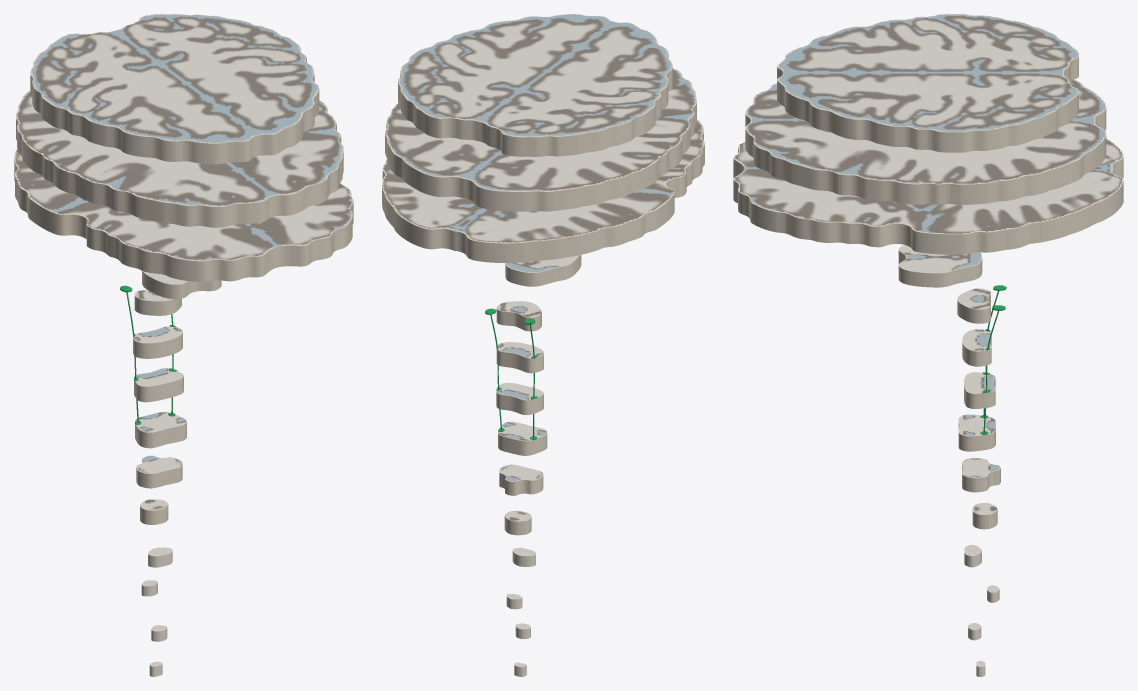
3 renders of one model, left to right at view 1: azimuth 30°, elevation 25°; view 2: azimuth 150°, elevation 25°; view 3: azimuth 270°, elevation 25°, orthographic. The views are drawn at different scales.
Parts seen in each view (by area): view 1: L15·切面（灰白质）, L14·切面（灰白质）, L13·切面（灰白质）, L13·背景·丘脑内囊, L14·背景·放射冠, L15·背景·皮质上部, L11·背景·下丘, L07·背景·橄榄中部, L09·背景·脑桥中部, L08·背景·脑桥下部, L06·背景·丘系交叉, L10·背景·脑桥上部 (+4 smaller); view 2: L15·切面（灰白质）, L14·切面（灰白质）, L13·切面（灰白质）, L13·背景·丘脑内囊, L14·背景·放射冠, L15·背景·皮质上部, L11·背景·下丘, L07·背景·橄榄中部, L09·背景·脑桥中部, L08·背景·脑桥下部, L06·背景·丘系交叉, L10·背景·脑桥上部 (+5 smaller); view 3: L15·切面（灰白质）, L14·切面（灰白质）, L13·切面（灰白质）, L13·背景·丘脑内囊, L14·背景·放射冠, L15·背景·皮质上部, L11·背景·下丘, L11·切面（灰白质）, L07·背景·橄榄中部, L07·切面（灰白质）, L06·背景·丘系交叉.
Boxes of the visible parts, box(x1,y1,x2,y2) form: L15·切面（灰白质）: box(31, 14, 318, 142); L14·切面（灰白质）: box(17, 91, 342, 206); L13·切面（灰白质）: box(15, 150, 352, 260); L13·背景·丘脑内囊: box(14, 148, 353, 281); L14·背景·放射冠: box(16, 91, 343, 227); L15·背景·皮质上部: box(30, 14, 319, 164); L11·背景·下丘: box(142, 271, 221, 299); L07·背景·橄榄中部: box(135, 419, 186, 448); L09·背景·脑桥中部: box(133, 329, 182, 358); L08·背景·脑桥下部: box(134, 373, 183, 402); L06·背景·丘系交叉: box(136, 458, 182, 488); L10·背景·脑桥上部: box(134, 293, 181, 315); L15·切面（灰白质）: box(399, 14, 671, 136); L14·切面（灰白质）: box(385, 68, 695, 191); L13·切面（灰白质）: box(383, 121, 703, 242); L13·背景·丘脑内囊: box(382, 119, 704, 263); L14·背景·放射冠: box(385, 68, 696, 211); L15·背景·皮质上部: box(398, 14, 672, 156); L11·背景·下丘: box(505, 255, 581, 286); L07·背景·橄榄中部: box(498, 423, 547, 455); L09·背景·脑桥中部: box(496, 344, 543, 373); L08·背景·脑桥下部: box(496, 384, 543, 415); L06·背景·丘系交叉: box(499, 467, 543, 495); L10·背景·脑桥上部: box(496, 301, 541, 331); L15·切面（灰白质）: box(779, 14, 1078, 131); L14·切面（灰白质）: box(747, 80, 1104, 183); L13·切面（灰白质）: box(735, 138, 1121, 233); L13·背景·丘脑内囊: box(733, 139, 1123, 254); L14·背景·放射冠: box(745, 79, 1106, 204); L15·背景·皮质上部: box(777, 14, 1078, 152); L11·背景·下丘: box(898, 245, 982, 287); L11·切面（灰白质）: box(900, 245, 980, 272); L07·背景·橄榄中部: box(958, 418, 995, 451); L07·切面（灰白质）: box(959, 414, 995, 435); L06·背景·丘系交叉: box(962, 460, 1000, 492).
Size of the model in its own units: 13.92 by 29.72 by 17.47.
